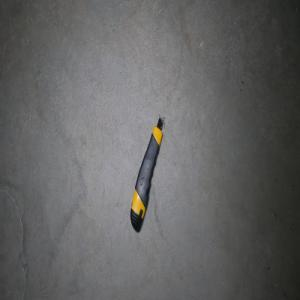Cutter: (130, 116, 163, 232)
